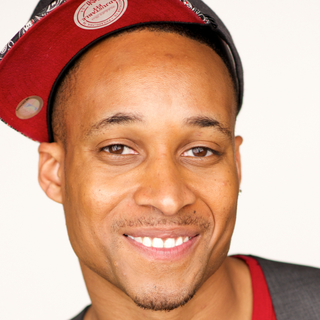eye: (178, 140, 226, 165), (95, 138, 143, 163)
